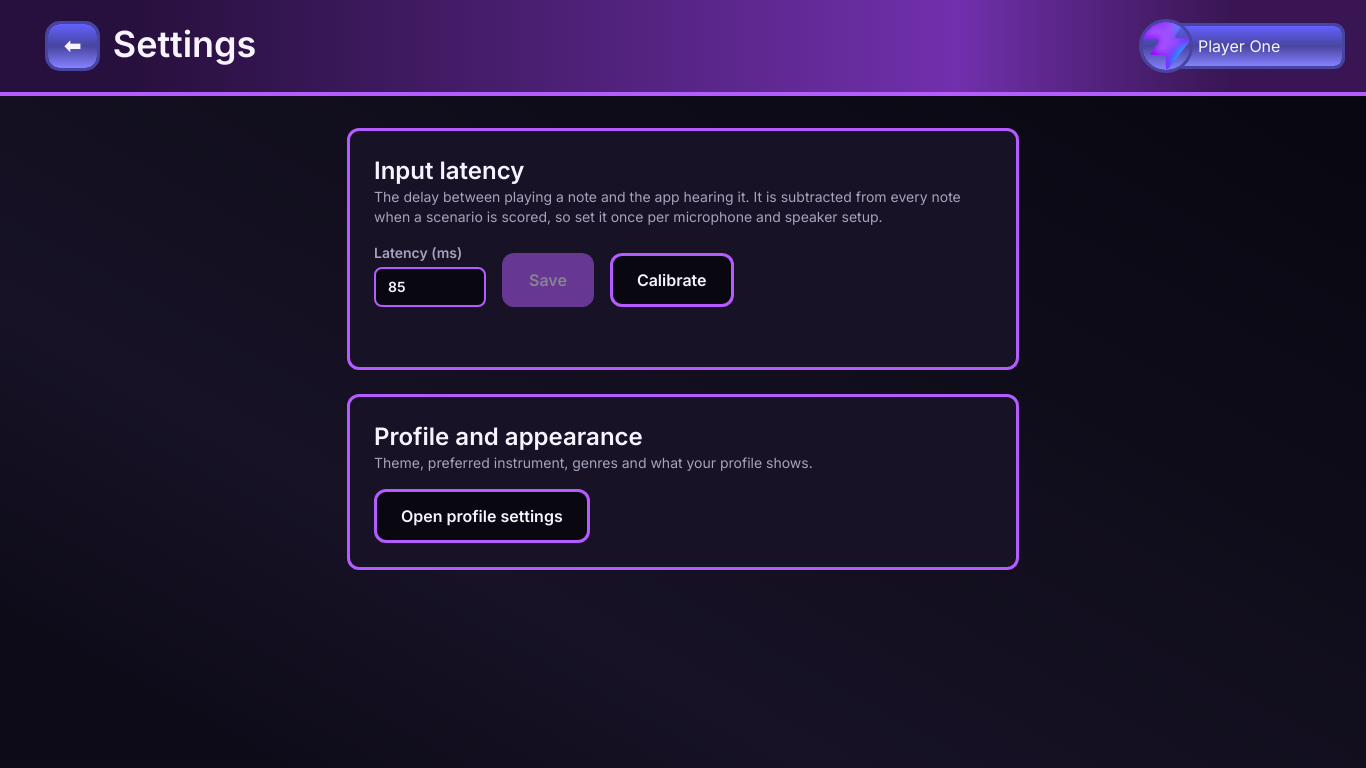
Test: settings page › saves a typed-in latency
This screenshot has width=1366, height=768.
Replace the text in the number field labelled "Latency (ms)" with "120". click: point(430, 287)
box: [374,267,486,307]
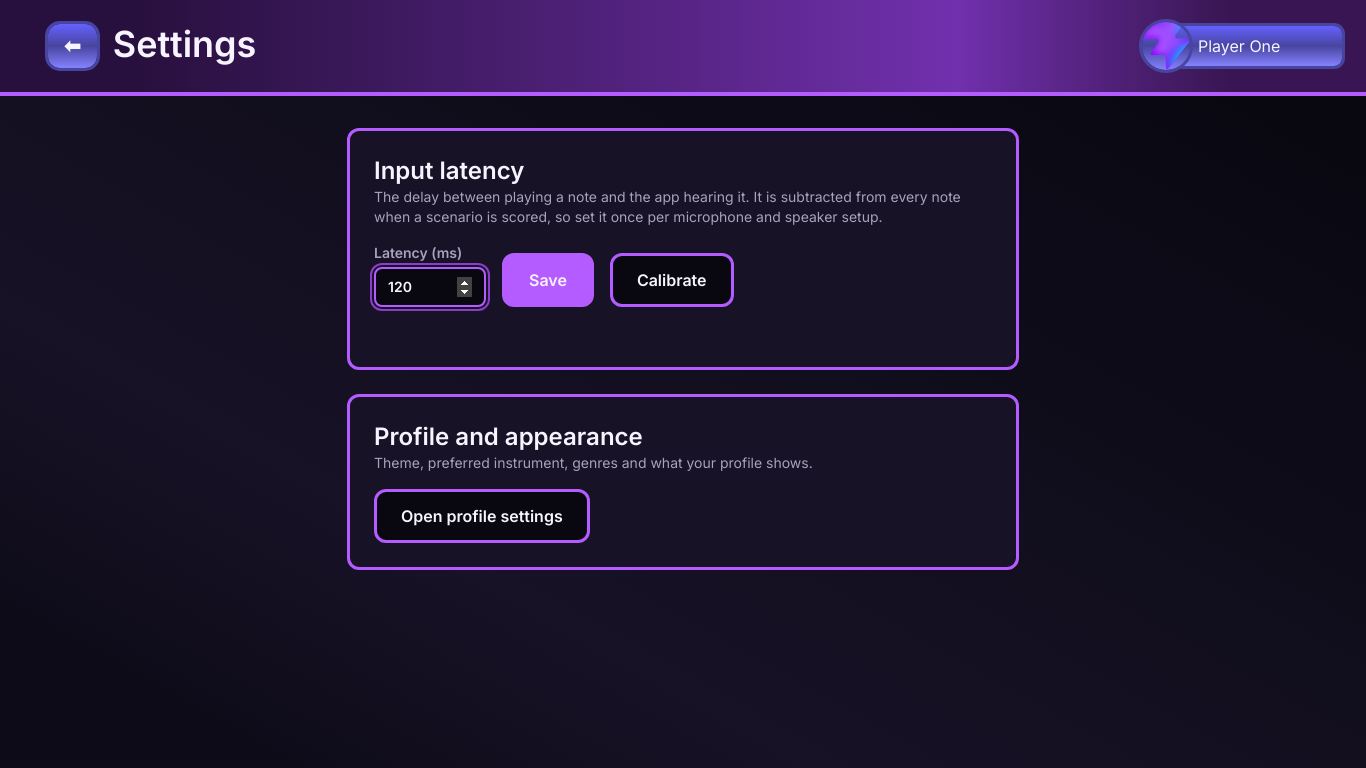
Click the button "Save". click: point(548, 280)
box: [502,253,594,307]
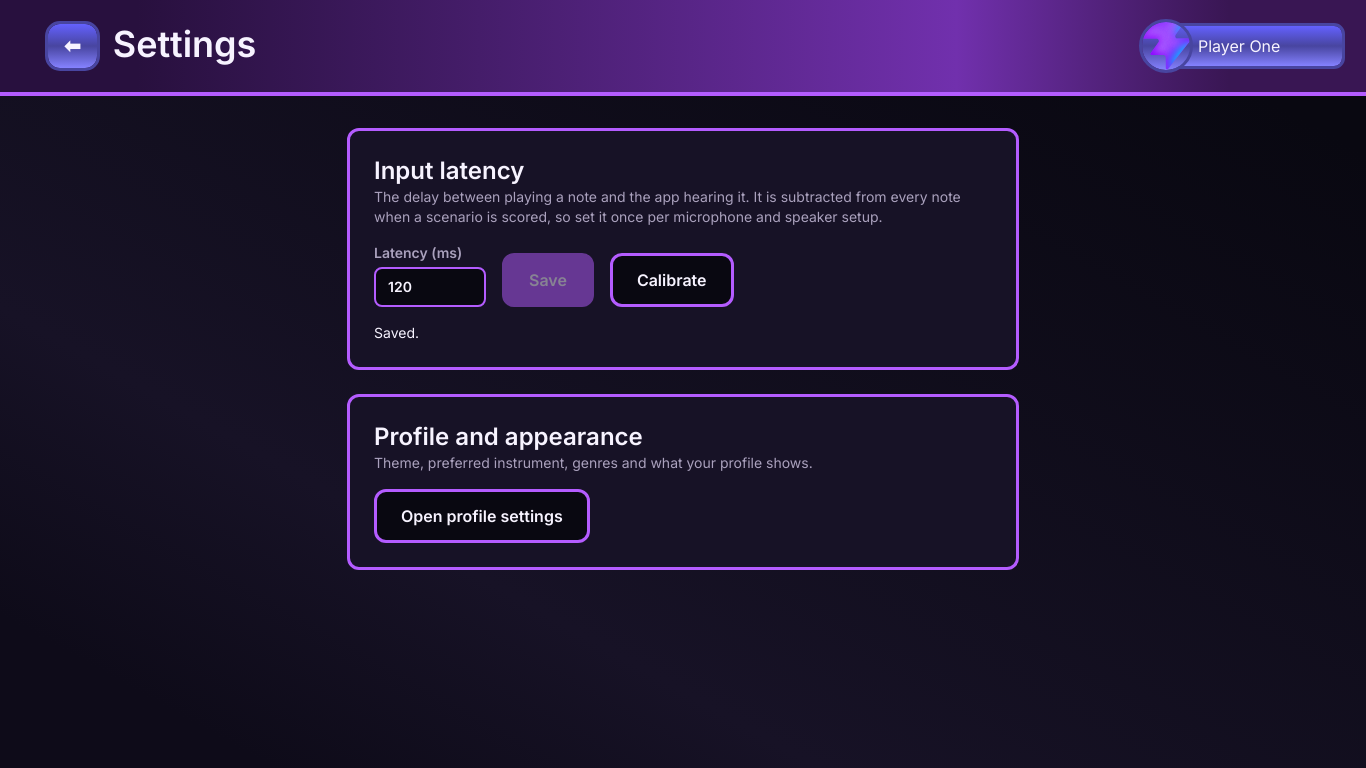
Now the text "Saved." is shown, box [374,324,419,341]
Now the button "Save" is disabled, box [502,253,594,307]
